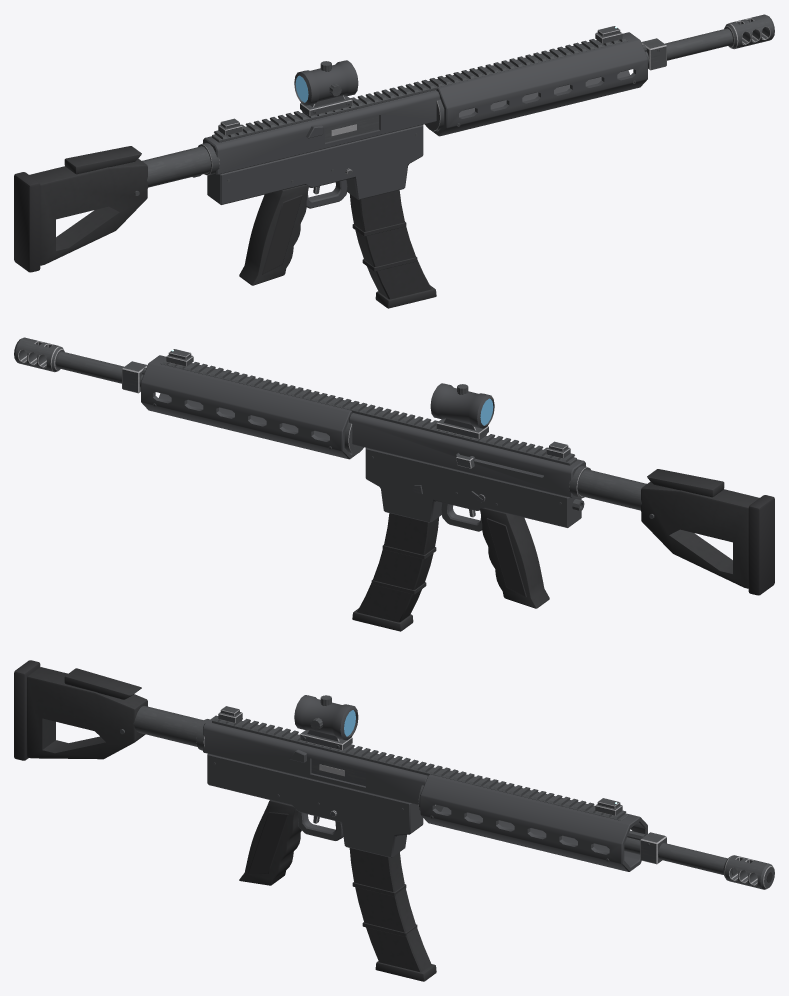
The model's file is w_rifle.glb.
3 views of the same model, one above another, from view 1: azimuth 30°, elevation 25°; view 2: azimuth 150°, elevation 25°; view 3: azimuth 330°, elevation 25° (orthographic).
Parts seen in each view (by area): view 1: W_rifle; view 2: W_rifle; view 3: W_rifle.
Boxes of the visible parts, bbox=[...] form: W_rifle: bbox=[14, 14, 774, 308]; W_rifle: bbox=[14, 337, 774, 631]; W_rifle: bbox=[14, 660, 774, 981].
Bounding box in the file's own units: 0.9374 × 0.3047 × 0.0608.
7 materials, 3 textured.
